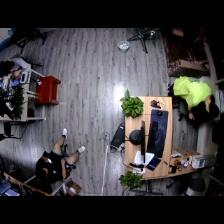normal: (171, 76, 222, 121), (37, 128, 80, 180), (2, 57, 30, 75)
